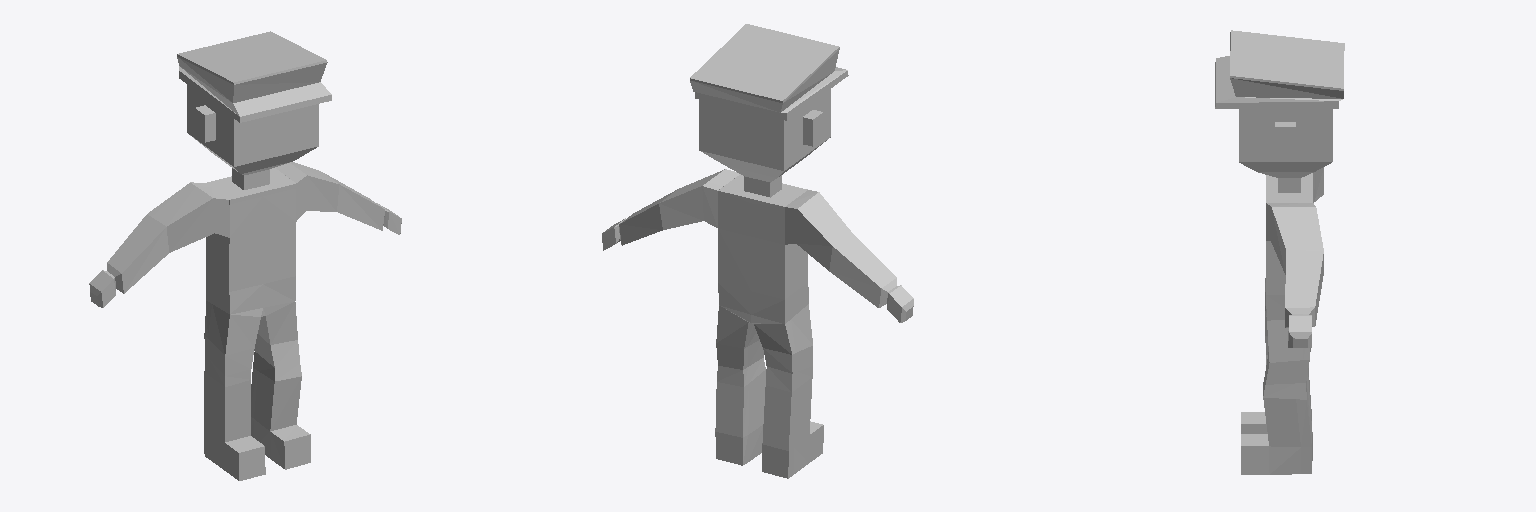
The model's file is enemy.obj.
3 views of the same model, side by side, from view 1: azimuth 30°, elevation 25°; view 2: azimuth 150°, elevation 25°; view 3: azimuth 270°, elevation 25° (orthographic).
Visible parts, largest first — view 1: Cube_Cube.001, Cube.001_Cube.002; view 2: Cube_Cube.001, Cube.001_Cube.002; view 3: Cube_Cube.001, Cube.001_Cube.002.
Boxes of the visible parts, x1,y1,x2,y2 form: Cube_Cube.001: [89, 85, 401, 480]; Cube.001_Cube.002: [177, 31, 331, 122]; Cube_Cube.001: [602, 89, 913, 478]; Cube.001_Cube.002: [690, 24, 848, 120]; Cube_Cube.001: [1239, 109, 1332, 474]; Cube.001_Cube.002: [1215, 30, 1344, 108].
Bounding box in the file's own units: 1.32 × 1.68 × 0.4861.